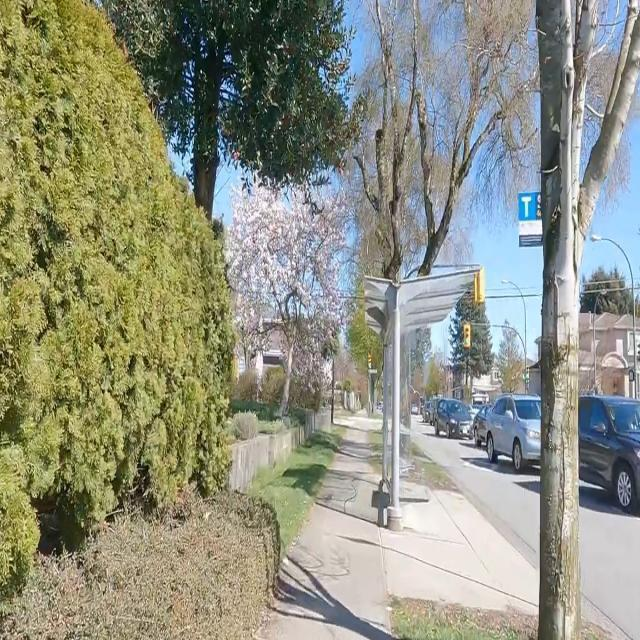Automobile: (579, 395, 639, 515), (475, 395, 539, 471), (433, 398, 474, 438), (422, 397, 441, 422)
Obstacle: (0, 492, 279, 639), (536, 0, 594, 639), (248, 431, 340, 553), (391, 598, 536, 639), (400, 264, 484, 332), (229, 427, 303, 491), (388, 283, 400, 529), (619, 0, 639, 119), (411, 446, 455, 489), (364, 276, 388, 332), (312, 407, 330, 431), (582, 625, 608, 639)
Road: (417, 436, 538, 566), (580, 481, 639, 639), (336, 417, 381, 430)
Sidewalk: (261, 428, 386, 639), (382, 488, 536, 614)
